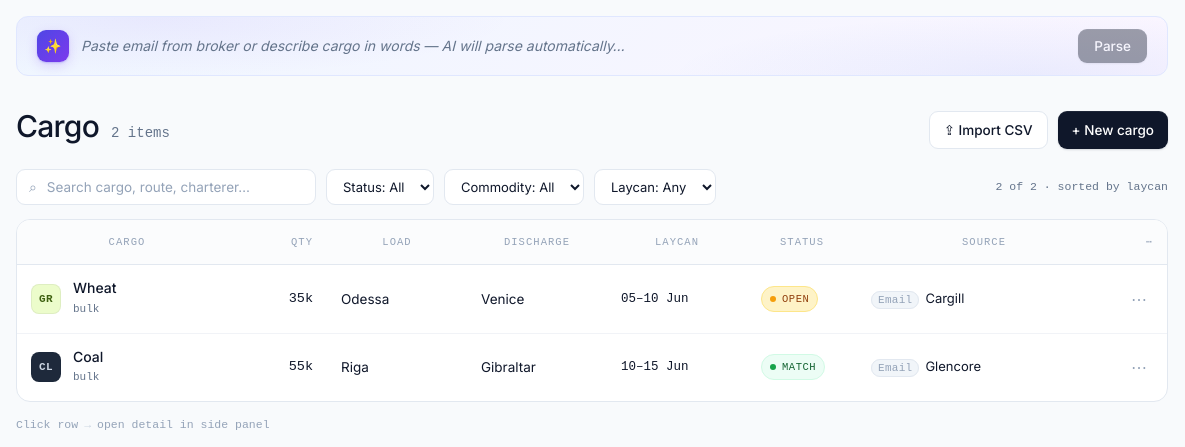
Scenario: CargoClient › filters rows by search text
Type "wheat" into the field named "Search cargo". click: (175, 187)
box: [47,177,303,197]
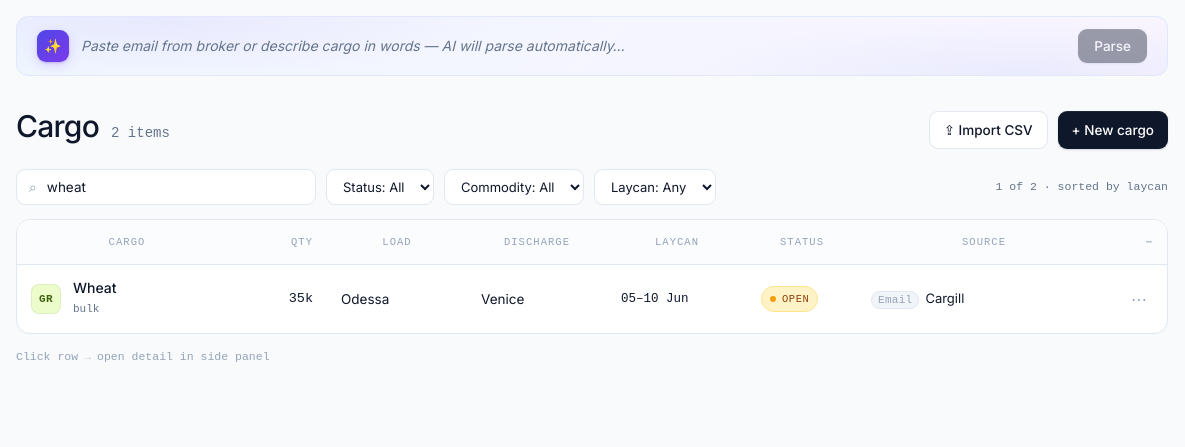
Expected: the text "Wheat" is shown, [73,279,116,296]
Expected: the text "Coal" is gone
